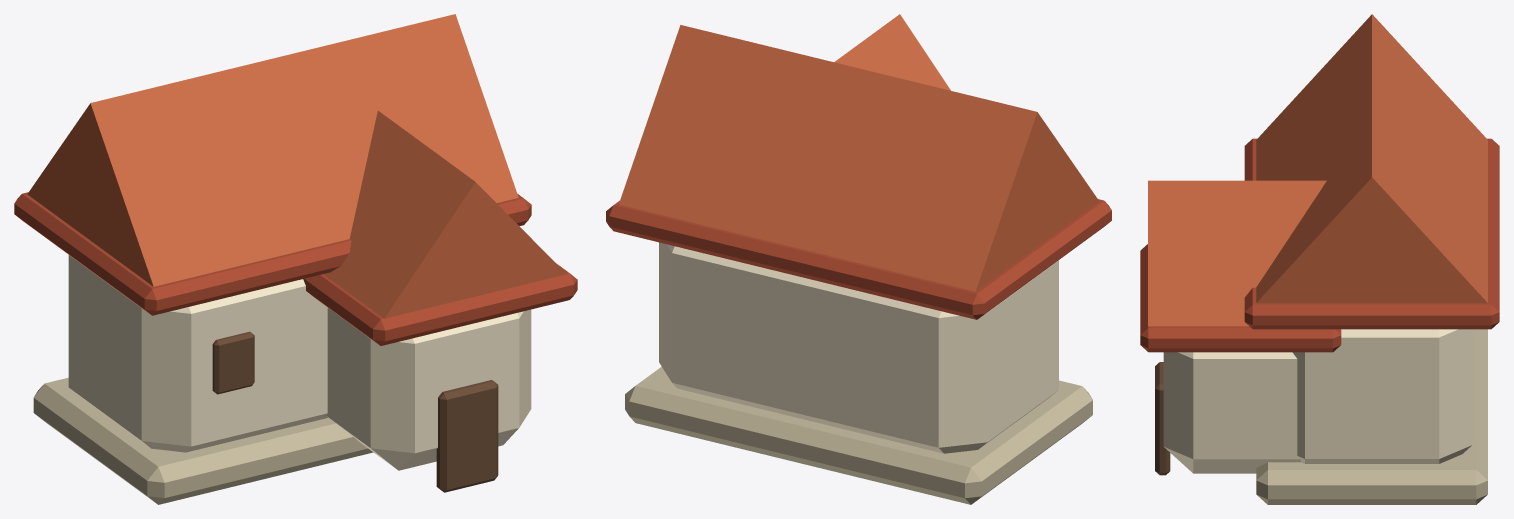
File: ns-house-2b.glb
The picture shows the model from 3 angles, left to right: view 1: azimuth 30°, elevation 25°; view 2: azimuth 150°, elevation 25°; view 3: azimuth 270°, elevation 25°; orthographic projection. The views are drawn at different scales.
Parts seen in each view (by area): view 1: Cube; view 2: Cube; view 3: Cube.
Boxes of the visible parts, bbox=[...] form: Cube: bbox=[14, 14, 577, 504]; Cube: bbox=[606, 14, 1111, 504]; Cube: bbox=[1140, 14, 1499, 504].
Size of the model in its own units: 0.53 by 0.475 by 0.465.
